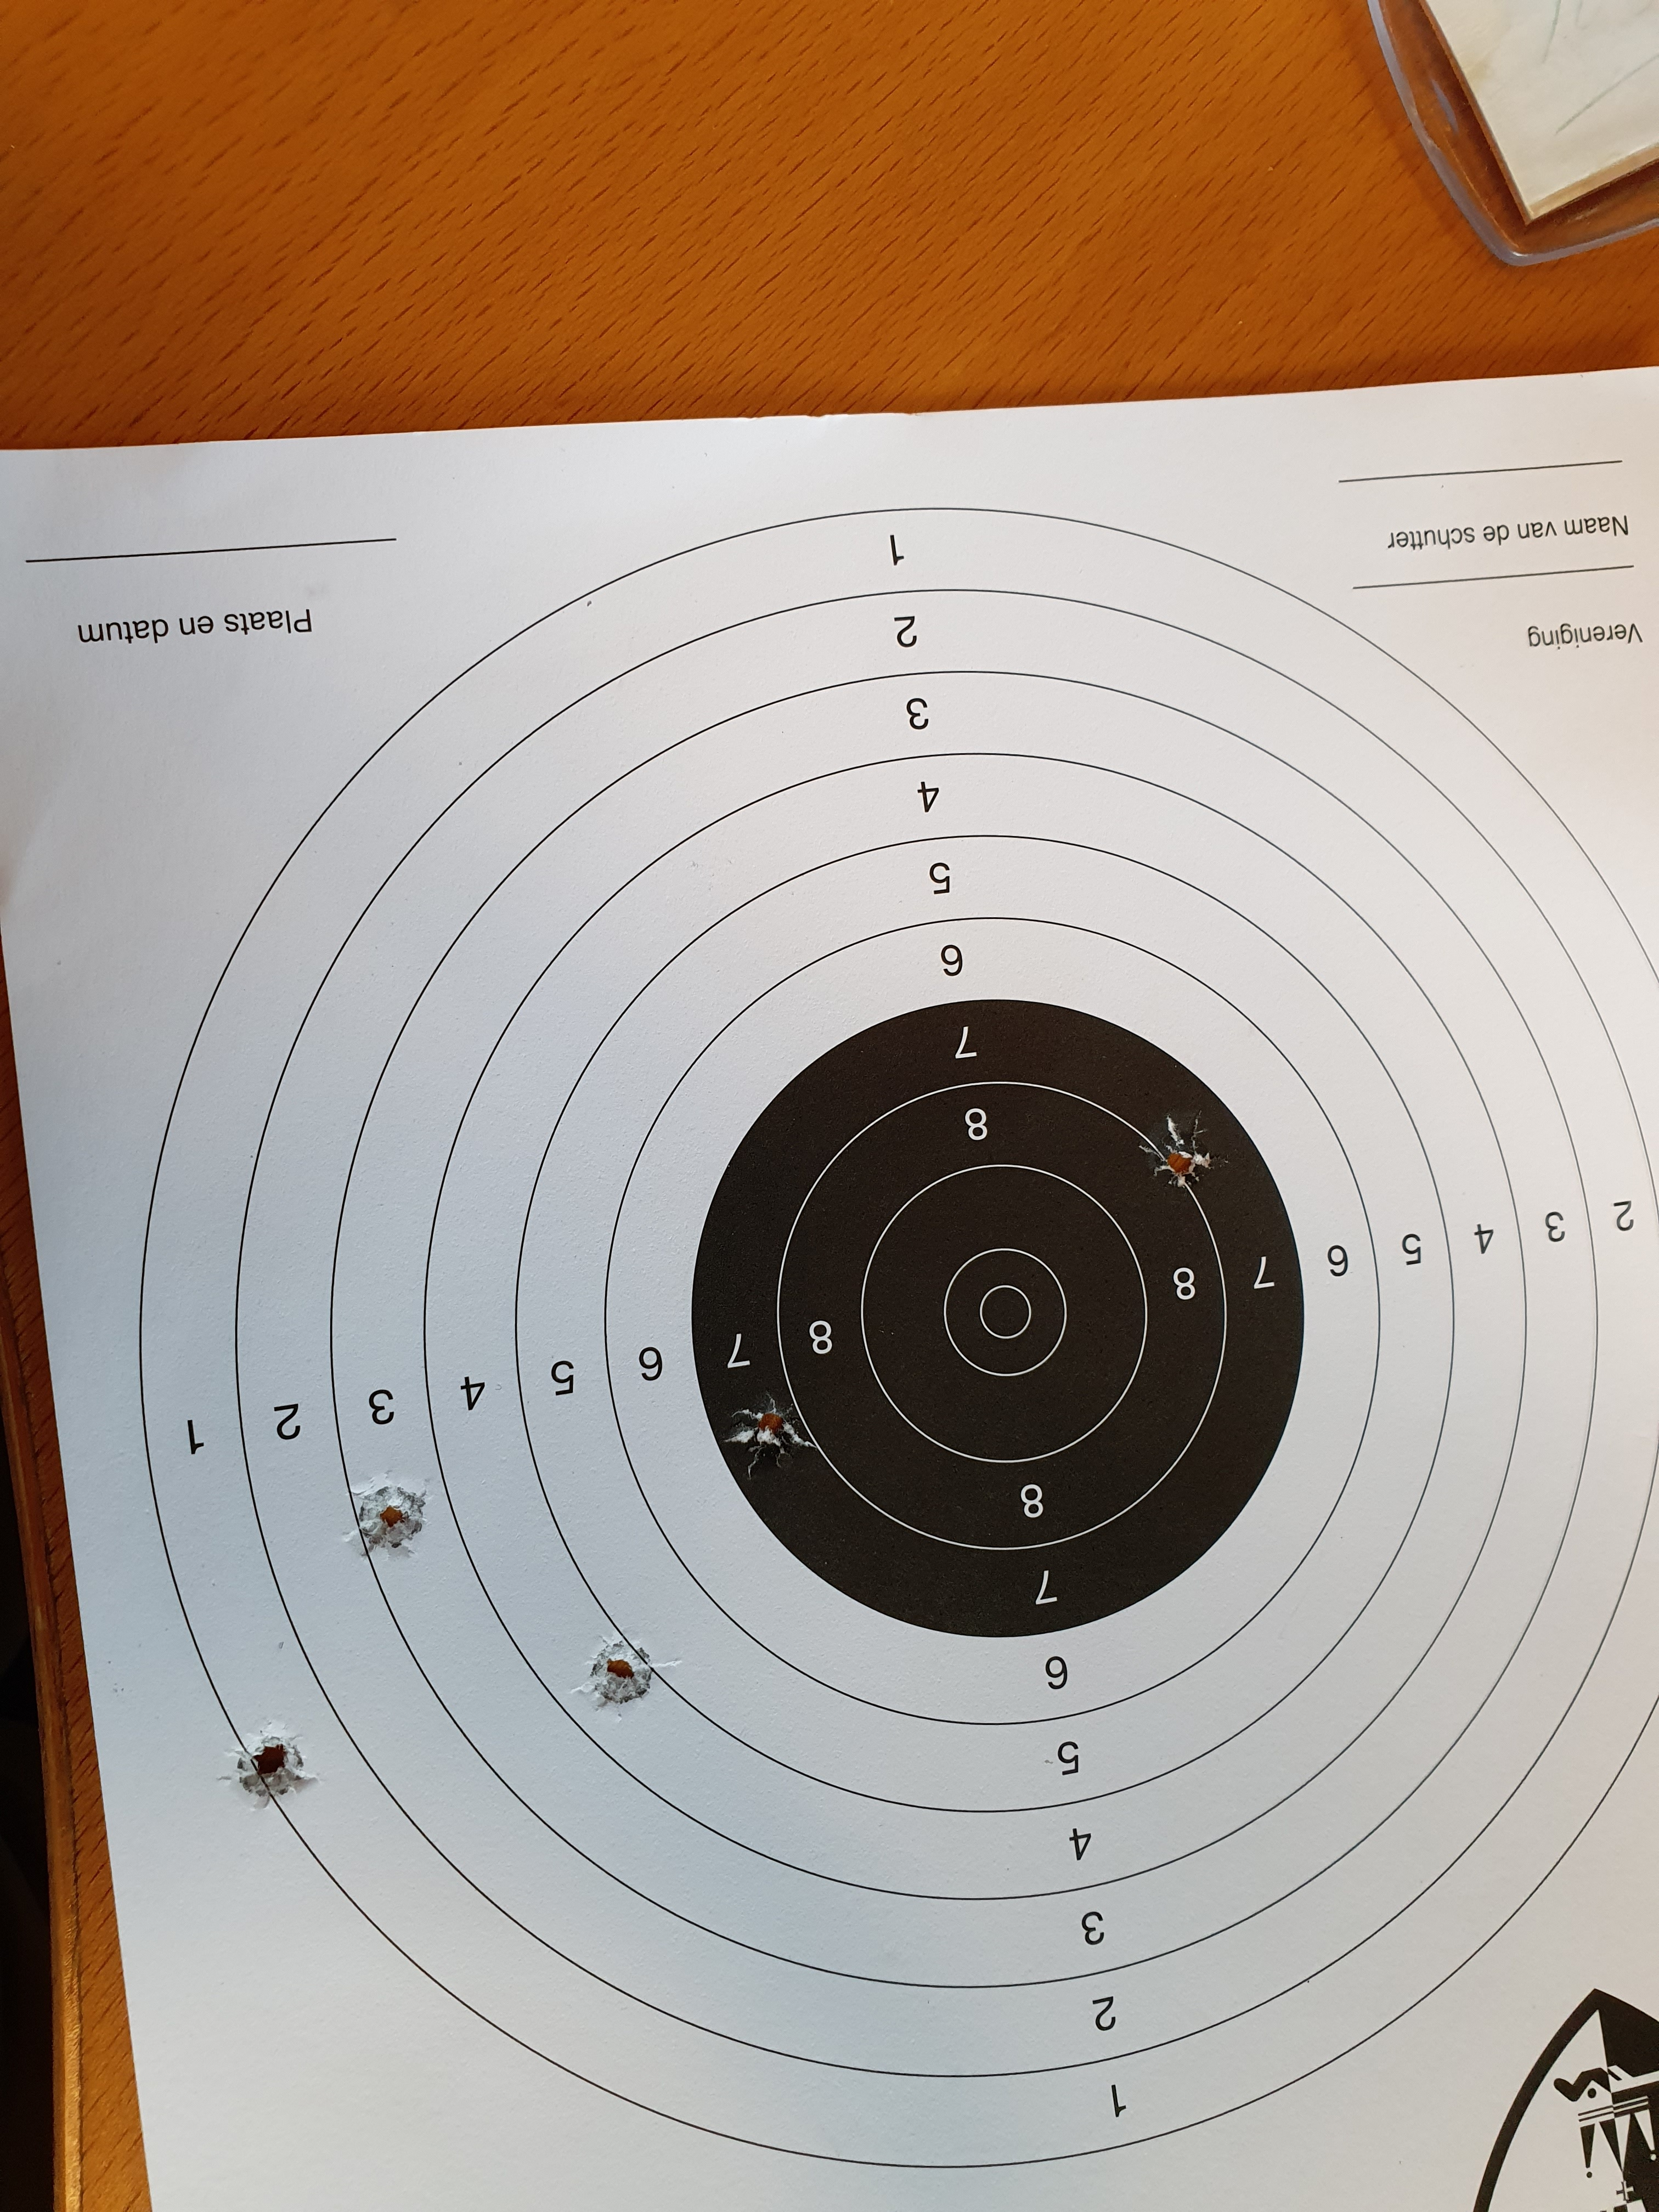center: (690, 998, 1305, 1637)
out: (134, 509, 1659, 2168)
shot: (565, 1623, 685, 1724), (211, 1719, 328, 1815), (340, 1465, 441, 1562), (720, 1390, 824, 1482), (1136, 1106, 1232, 1188)
target: (943, 1247, 1066, 1378)
